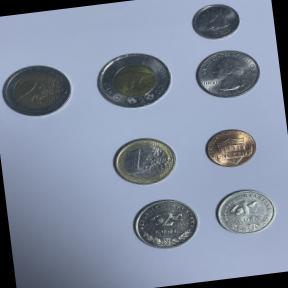coin: (91, 47, 178, 114), (0, 58, 77, 123), (127, 194, 205, 255), (106, 130, 182, 190), (189, 46, 266, 104), (200, 124, 260, 171), (187, 0, 246, 44)
